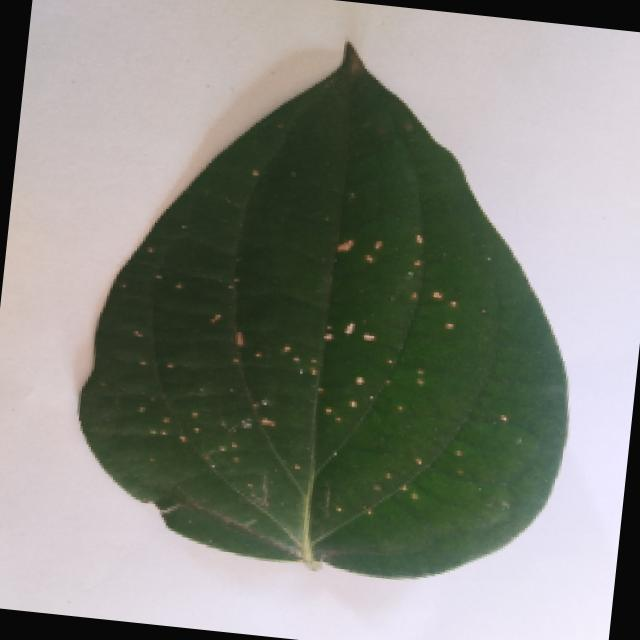pollu-disease: (38, 0, 620, 589)
